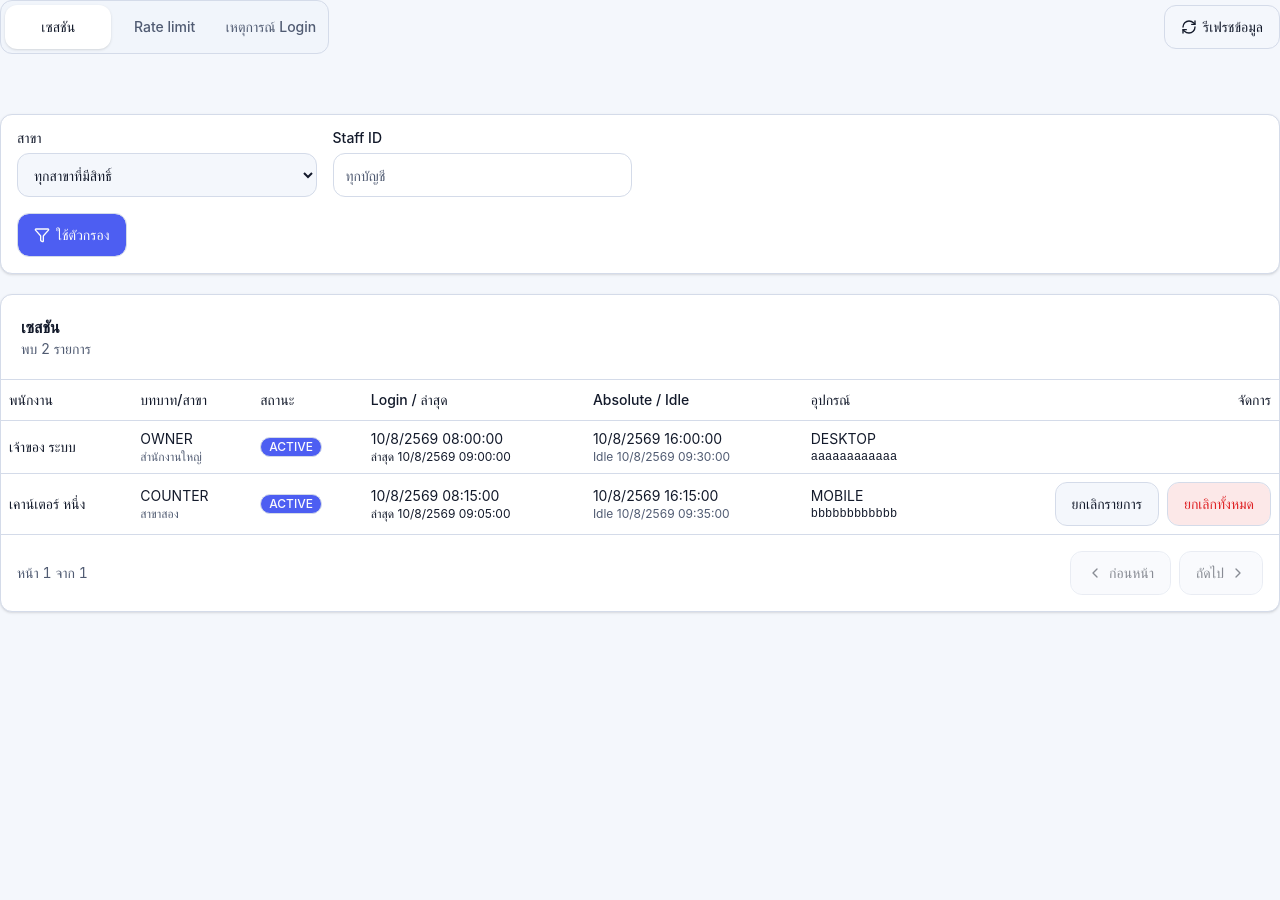
SecurityConsole › revoke-all ใช้ staffId และคง dialog/error ไว้เมื่อ server ปฏิเสธ
This screenshot has width=1280, height=900.
Click the button with aria-label "ยกเลิกทุกเซสชันของ เคาน์เตอร์ หนึ่ง" at (1219, 504), box [1167,482,1271,526]
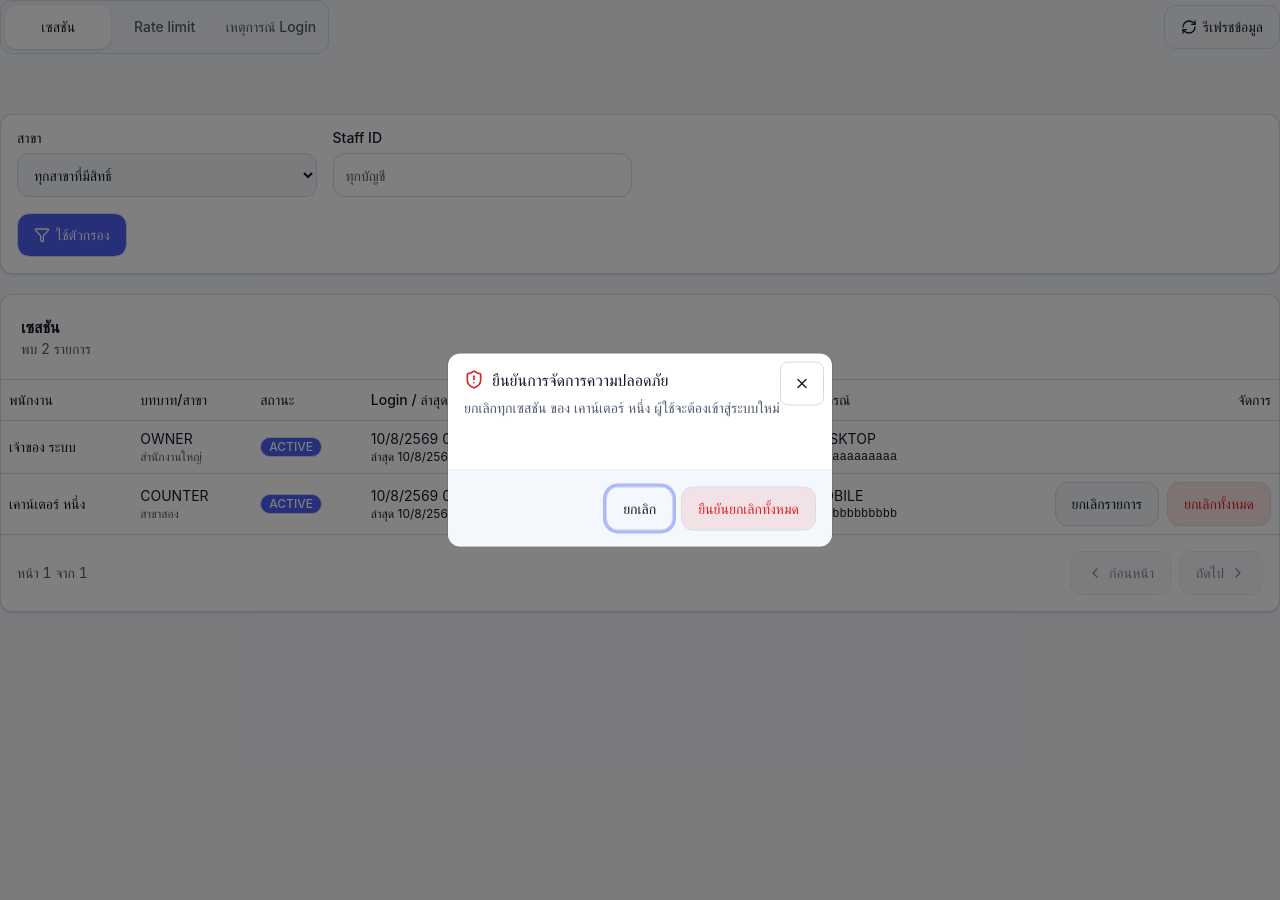
Check: the dialog shows "ยกเลิกทุกเซสชัน", box [464,398,780,416]
Click the button "ยืนยันยกเลิกทั้งหมด" at (749, 508), box [681,486,816,530]
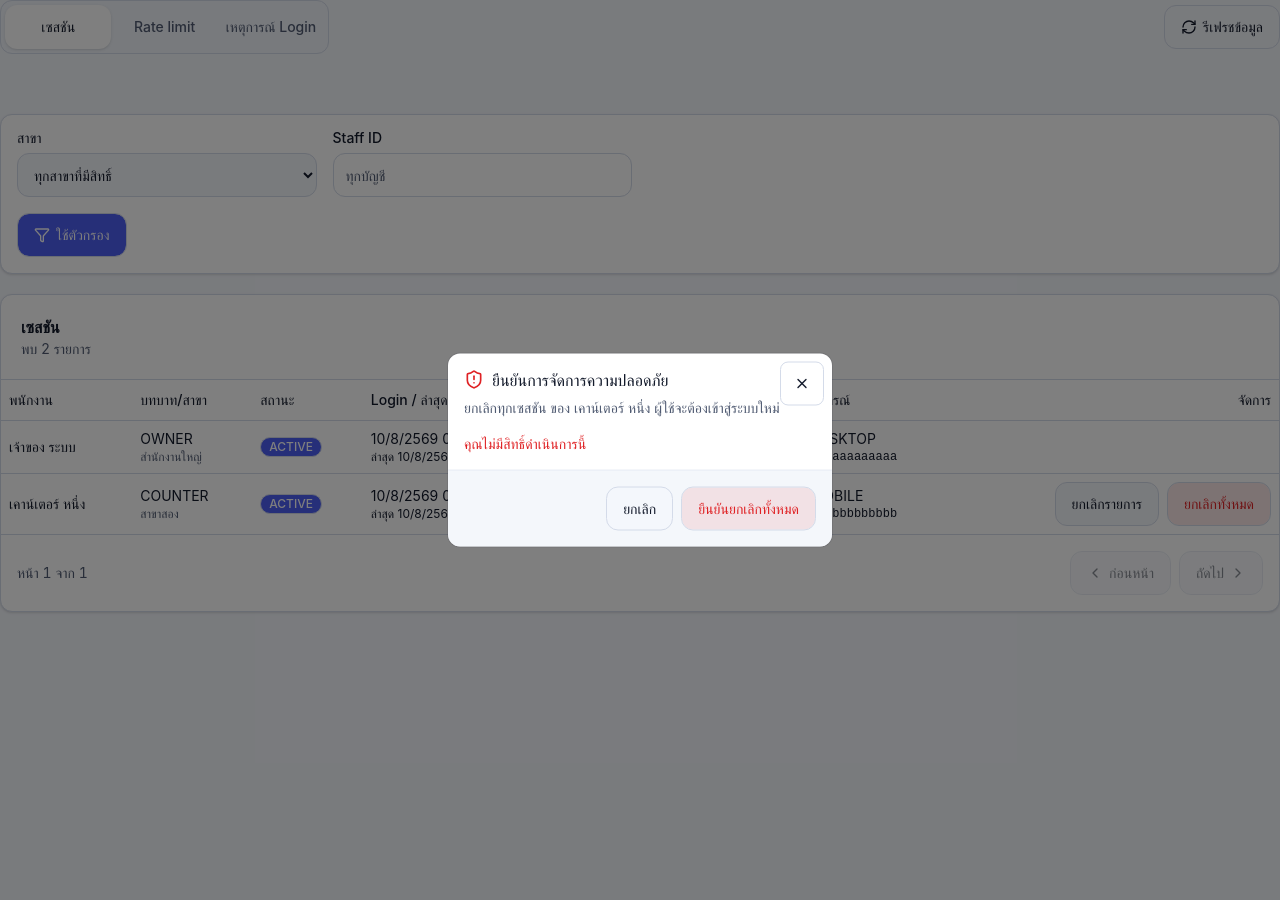
Check: the dialog shows "คุณไม่มีสิทธิ์ดำเนินการนี้", box [464,434,586,452]
